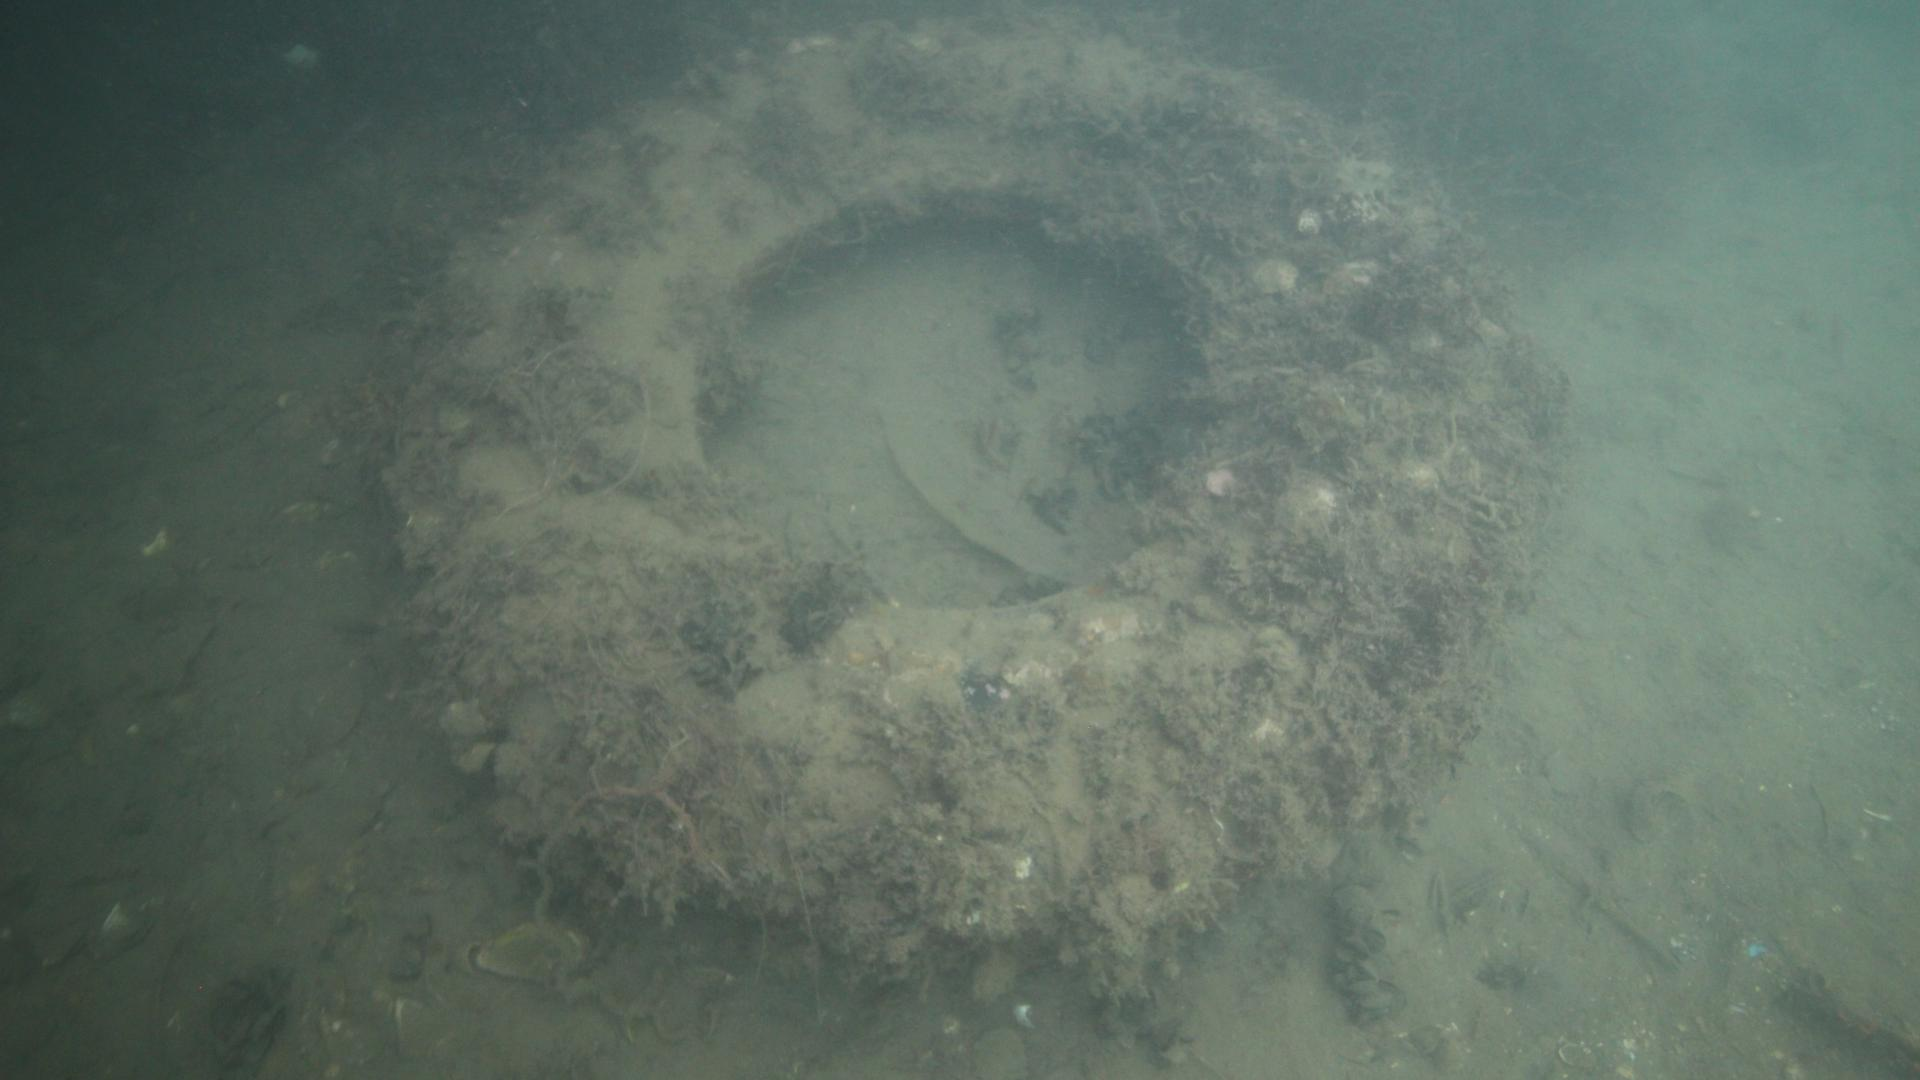tire: (378, 13, 1536, 942)
